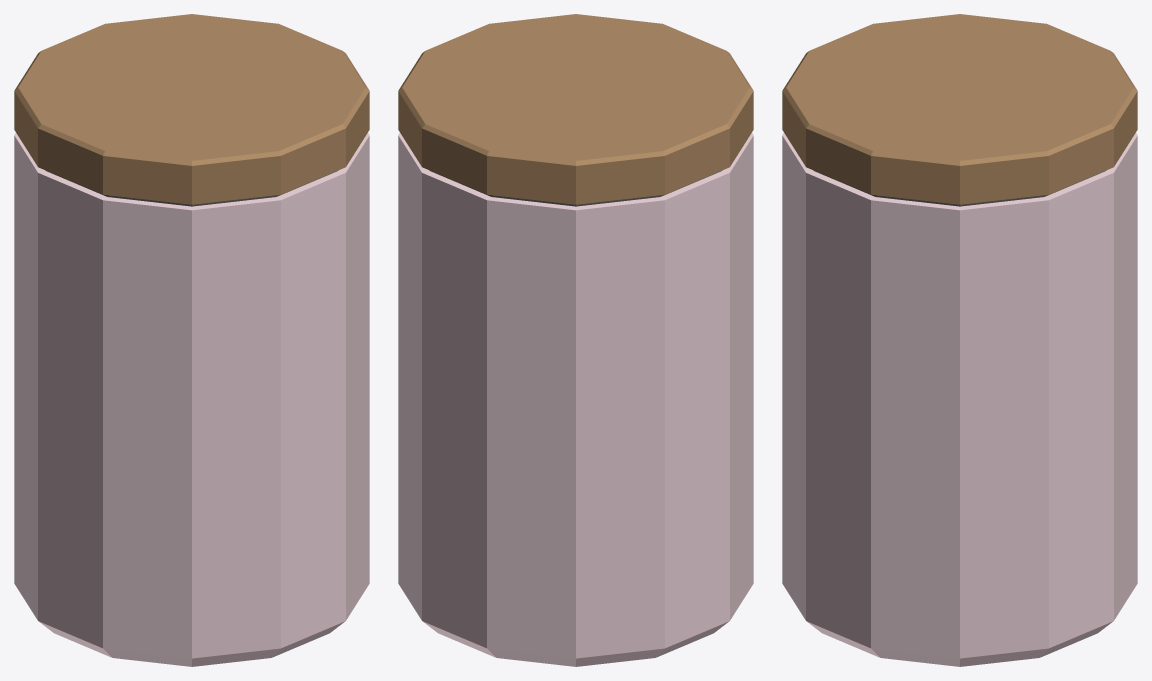
Rendered from KitchenProps_24.fbx.
3 renders of one model, left to right at view 1: azimuth 30°, elevation 25°; view 2: azimuth 150°, elevation 25°; view 3: azimuth 270°, elevation 25°, orthographic.
Visible parts, largest first — view 1: KitchenProps_24; view 2: KitchenProps_24; view 3: KitchenProps_24.
Part boxes in pixels (box(x1,y1,x2,y2)): KitchenProps_24: box(14, 14, 369, 666); KitchenProps_24: box(398, 14, 753, 666); KitchenProps_24: box(782, 14, 1137, 666).
Size of the model in its own units: 9.62 by 15.3 by 9.62.
